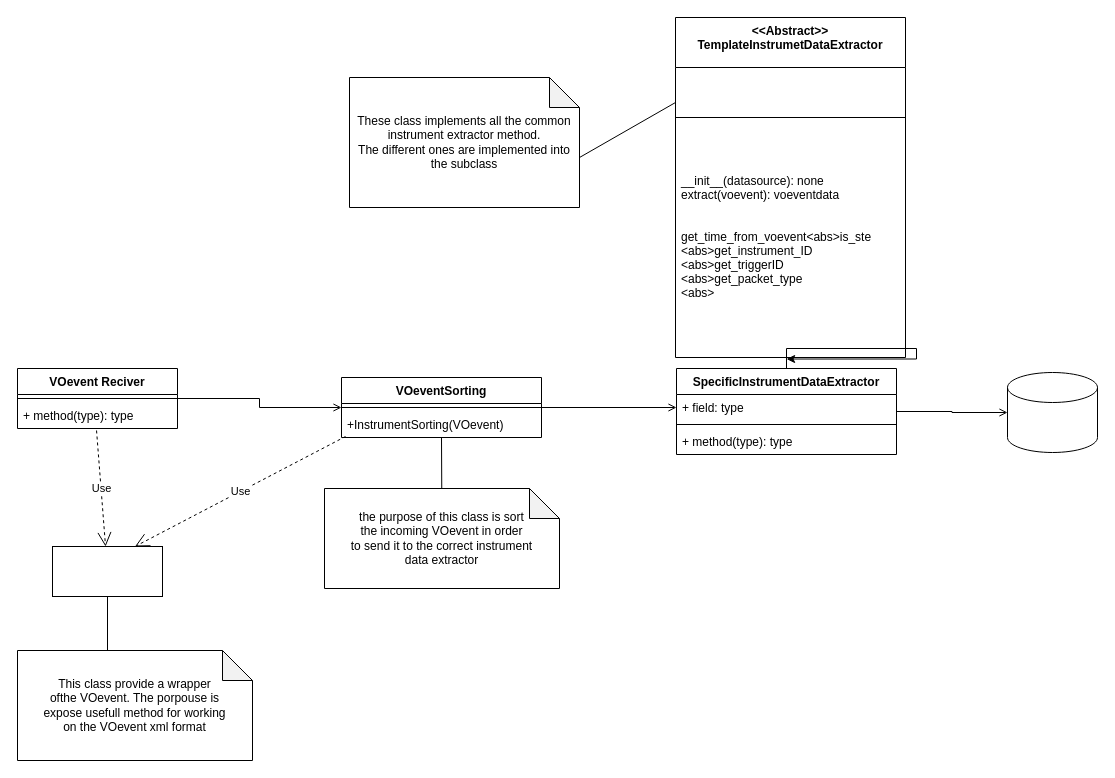
Image size: 1115x778. Some labels were removed from this diagram. Each missing label, with the centre of its shape:
"Database" belongs at [1052,412].
"VOevent" belongs at [107,571].
